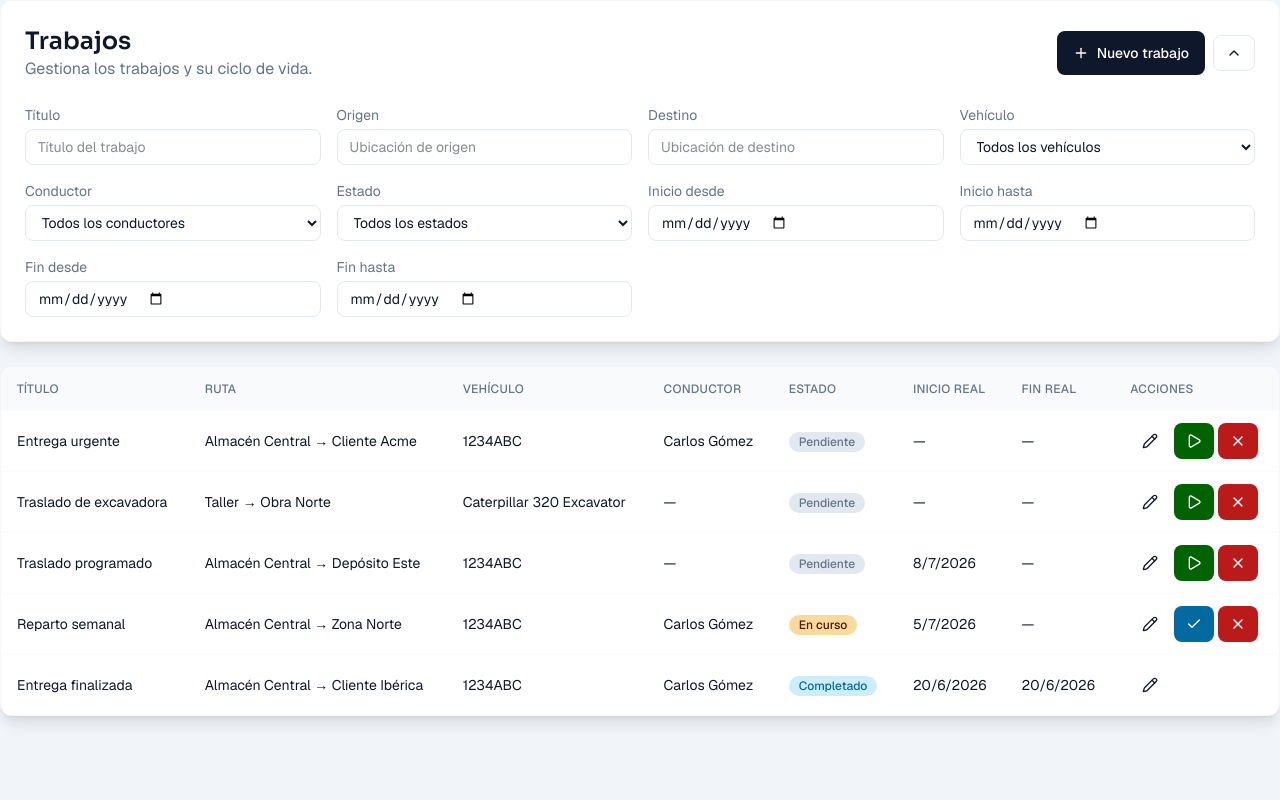
Test: Jobs › completing a job transitions its status badge to Completado
The width and height of the screenshot is (1280, 800).
Expected: the text "En curso" is shown, 789,614 -> 857,634
What coordinates should you click on to do the following:
click the button named "completar"
I would click on:
 (1194, 624)
Its box is 1174,606 -> 1214,642.
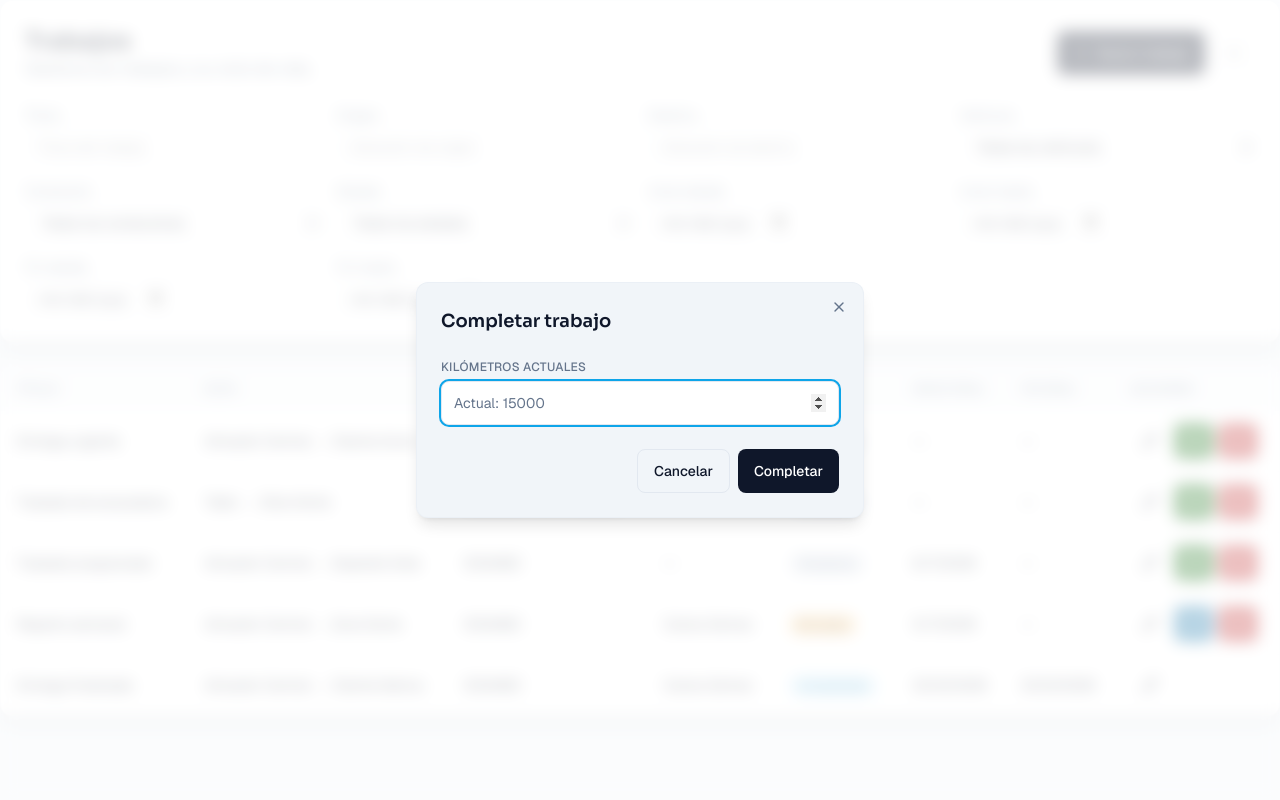
What coordinates should you click on to do the following:
click the button "Completar"
I would click on:
 (788, 471)
Its box is 738,449 -> 839,493.
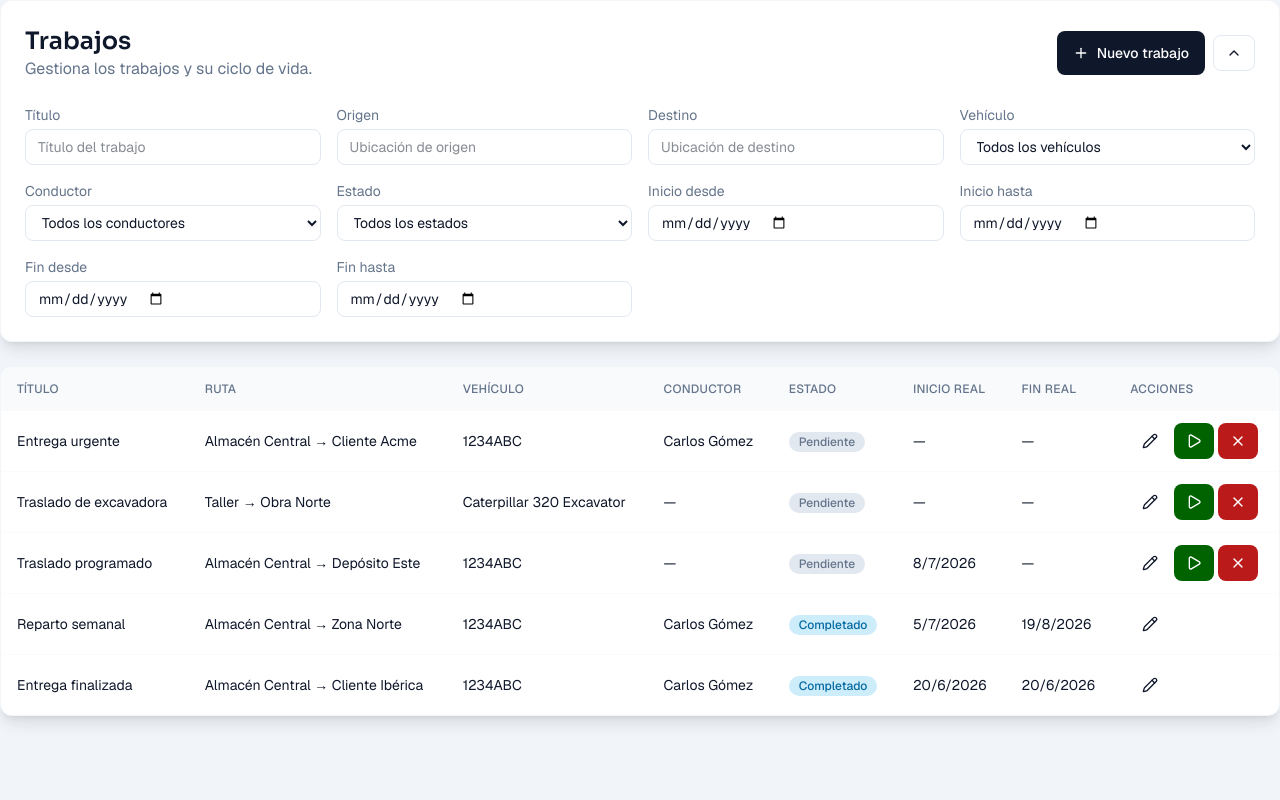
Result: the text "Completado" in the row of "Reparto semanal" is shown at 799,616 -> 867,632
